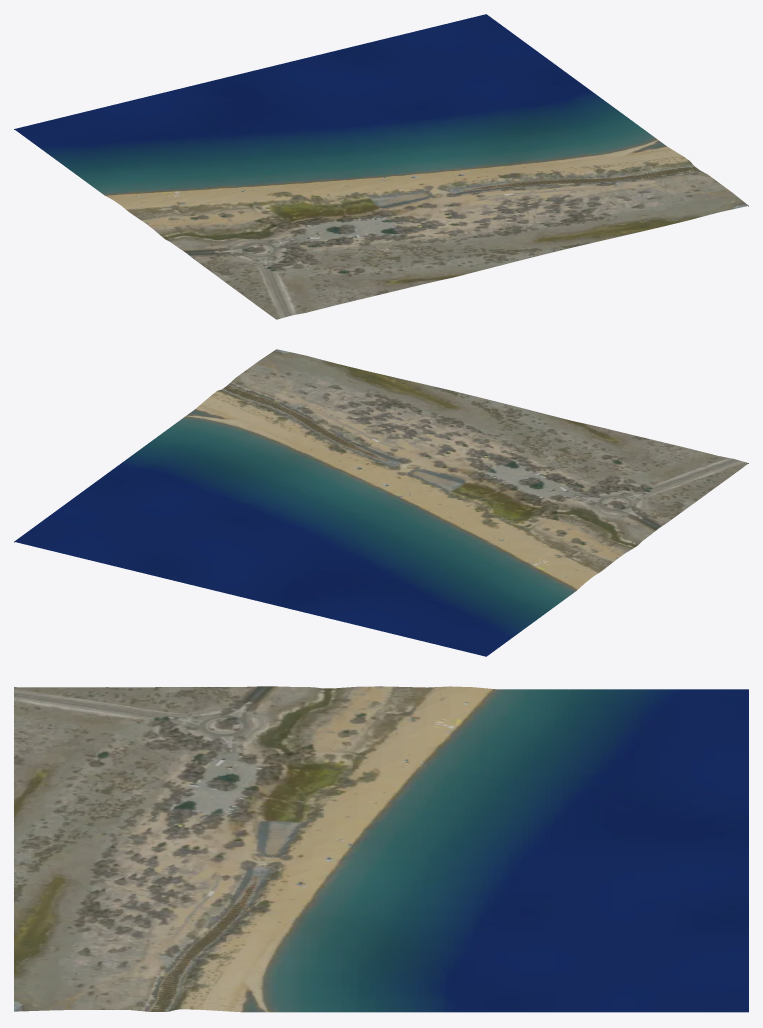
3 views of the same model, one above another, from view 1: azimuth 30°, elevation 25°; view 2: azimuth 150°, elevation 25°; view 3: azimuth 270°, elevation 25° (orthographic). The views are drawn at different scales.
Size of the model in its own units: 500 by 3.64 by 481.
1 material, 1 textured.
